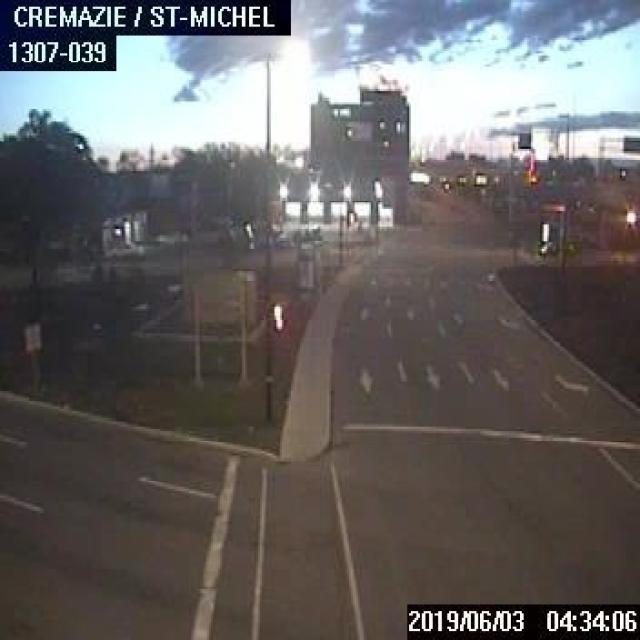vehicle: (105, 240, 143, 258)
